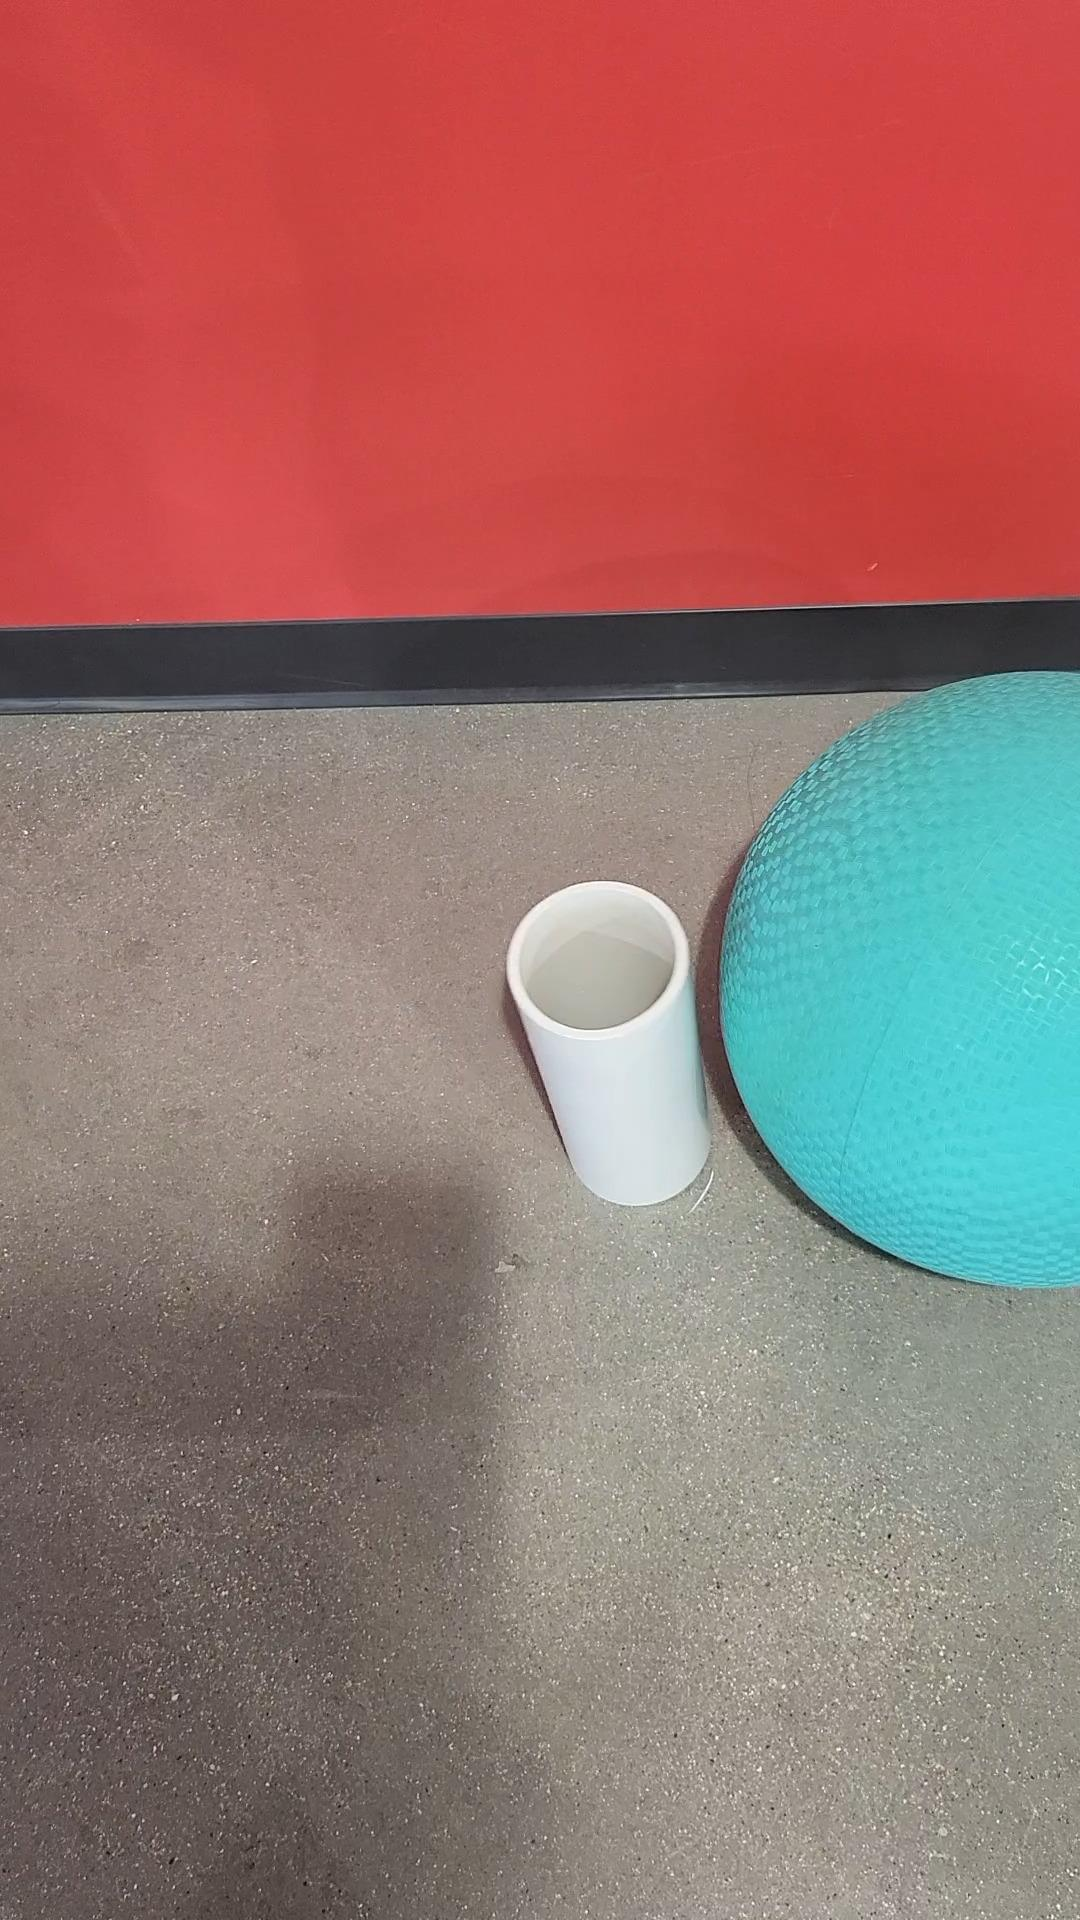algae: (717, 671, 1079, 1273)
coral: (501, 881, 717, 1208)
